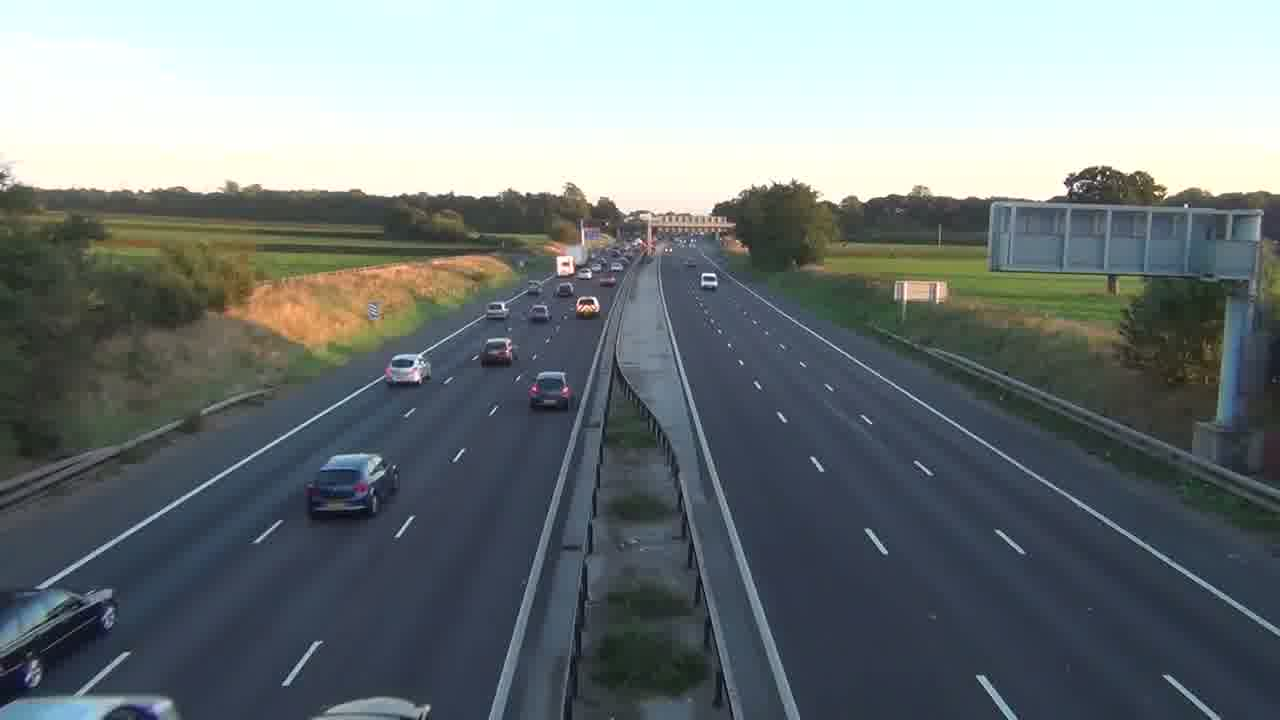car: (0, 585, 118, 696), (305, 453, 399, 519), (528, 370, 575, 410), (384, 352, 432, 386), (479, 336, 515, 366), (575, 295, 600, 319), (486, 300, 510, 320), (528, 303, 551, 322), (700, 272, 718, 289)
